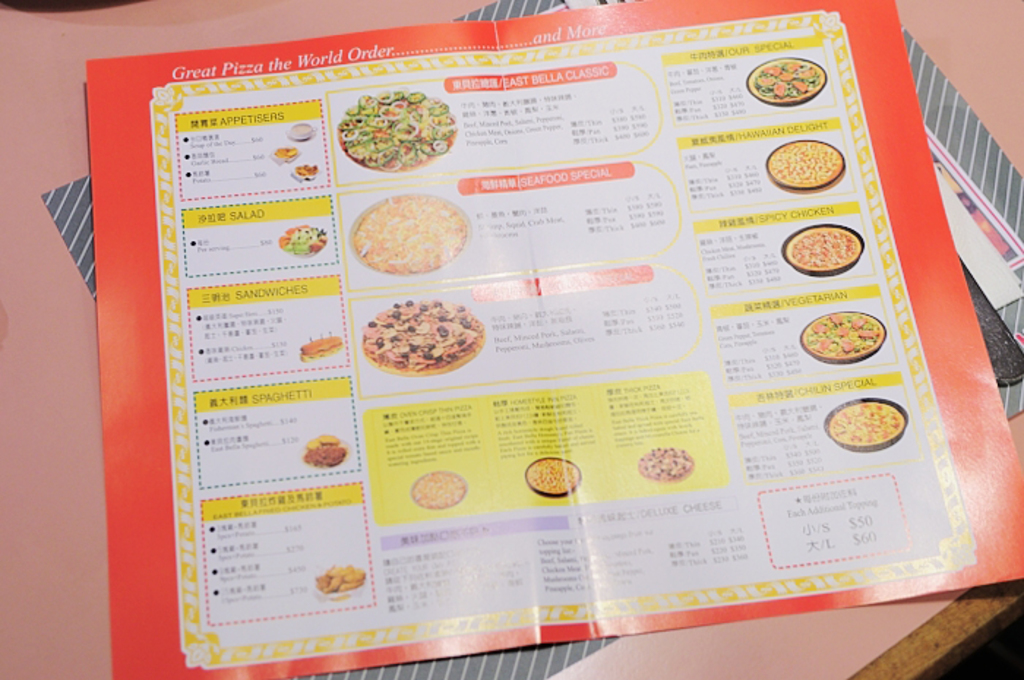Pizza: (334, 86, 457, 175), (349, 194, 466, 274), (365, 289, 460, 374), (781, 220, 863, 274), (762, 138, 844, 191), (746, 54, 826, 108), (803, 307, 886, 359), (830, 396, 902, 443), (522, 456, 579, 497), (637, 444, 694, 482), (412, 472, 462, 505)
